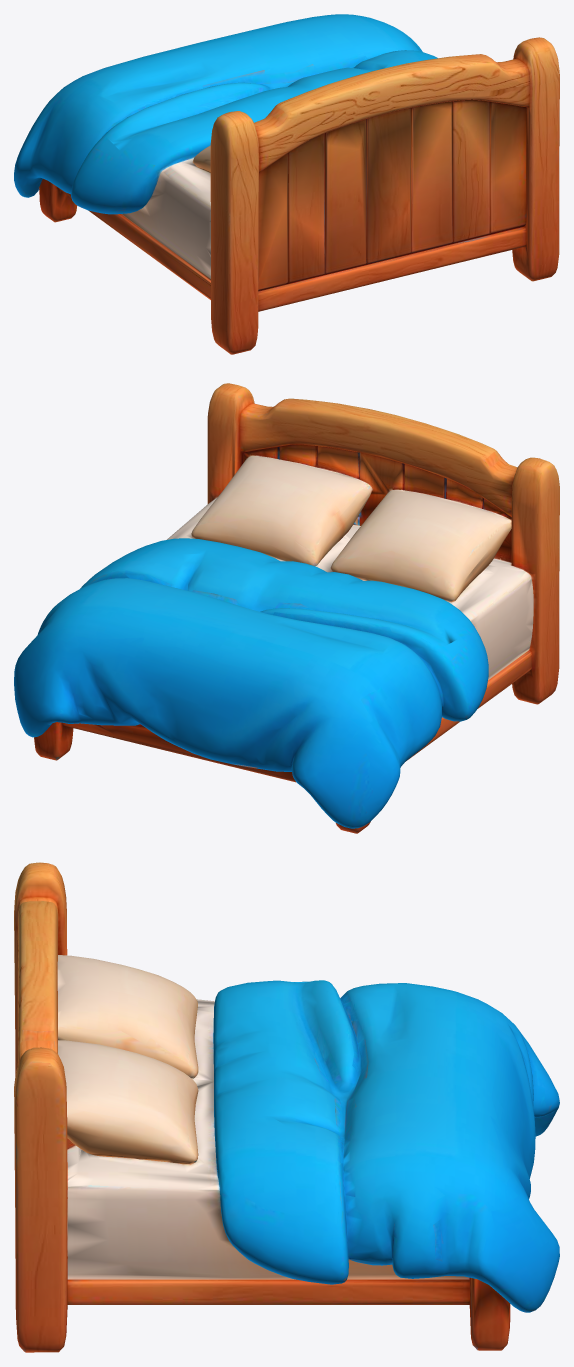
Rendered from bed.glb.
3 renders of one model, top to bottom at view 1: azimuth 30°, elevation 25°; view 2: azimuth 150°, elevation 25°; view 3: azimuth 270°, elevation 25°, orthographic. The views are drawn at different scales.
Parts seen in each view (by area): view 1: bed; view 2: bed; view 3: bed.
Part boxes in pixels (box(x1,y1,x2,y2)): bed: box(14, 14, 559, 354); bed: box(14, 383, 559, 833); bed: box(14, 862, 559, 1352).
Size of the model in its own units: 1.74 by 1 by 1.64.
Materials: 1 (1 with a texture image).
